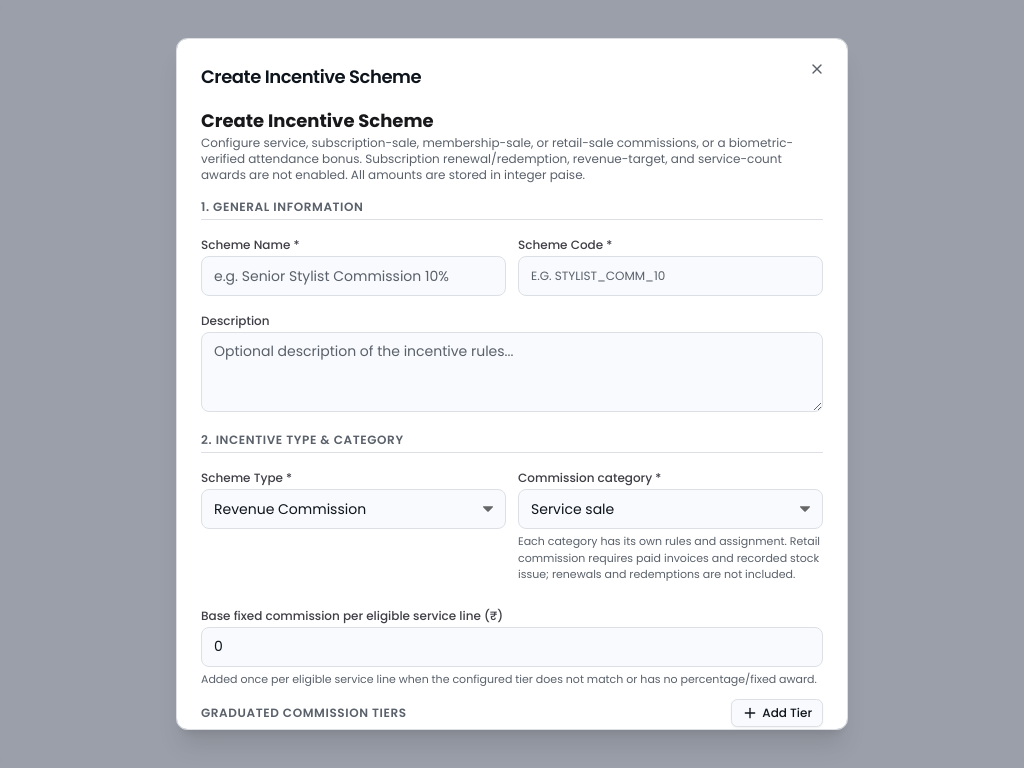
Incentive capability UI › rejects a finite tier maximum below its minimum before submitting
The image size is (1024, 768).
Type "Invalid tier" into the field with placeholder "e.g. Senior Stylist Commission 10%" at (354, 276), box [201,256,506,296]
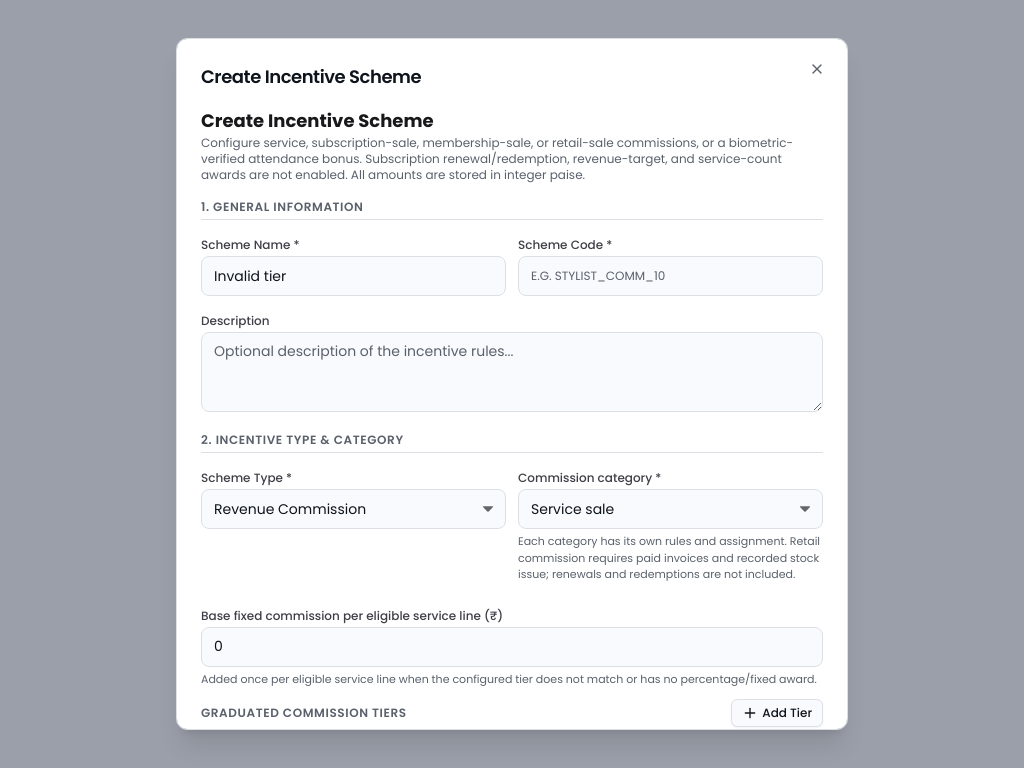
Type "INVALID_TIER" into the field with placeholder "e.g. STYLIST_COMM_10" at (670, 276), box [518,256,823,296]
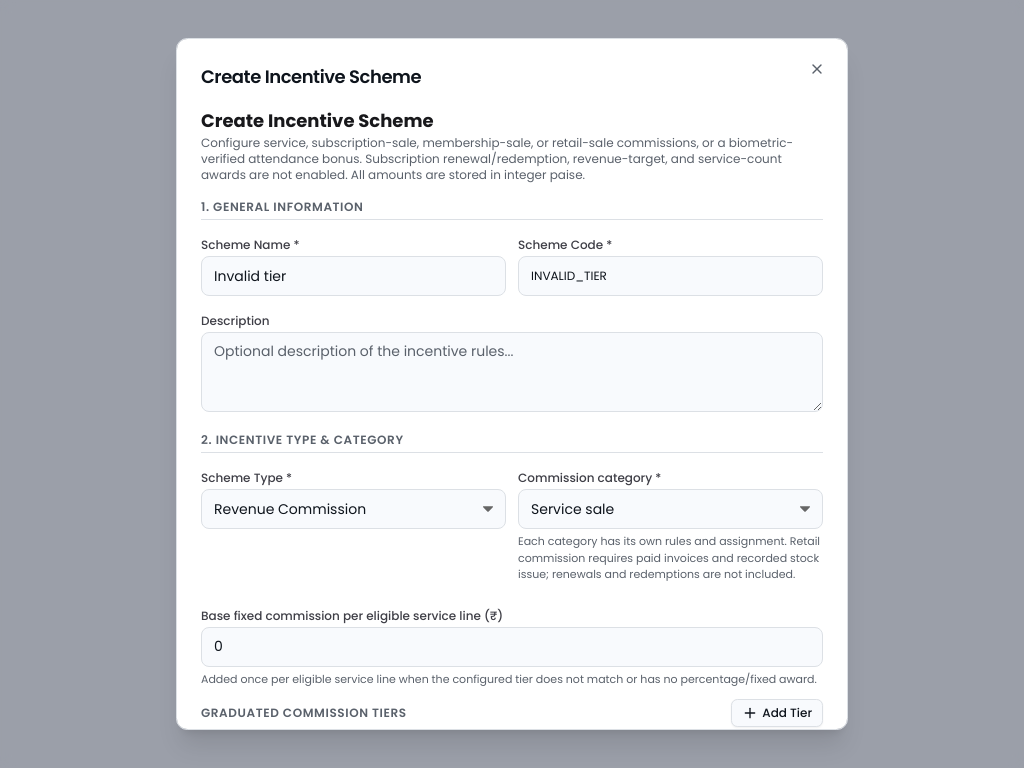
Click the button "Add Tier" at (777, 713), box [731,699,823,727]
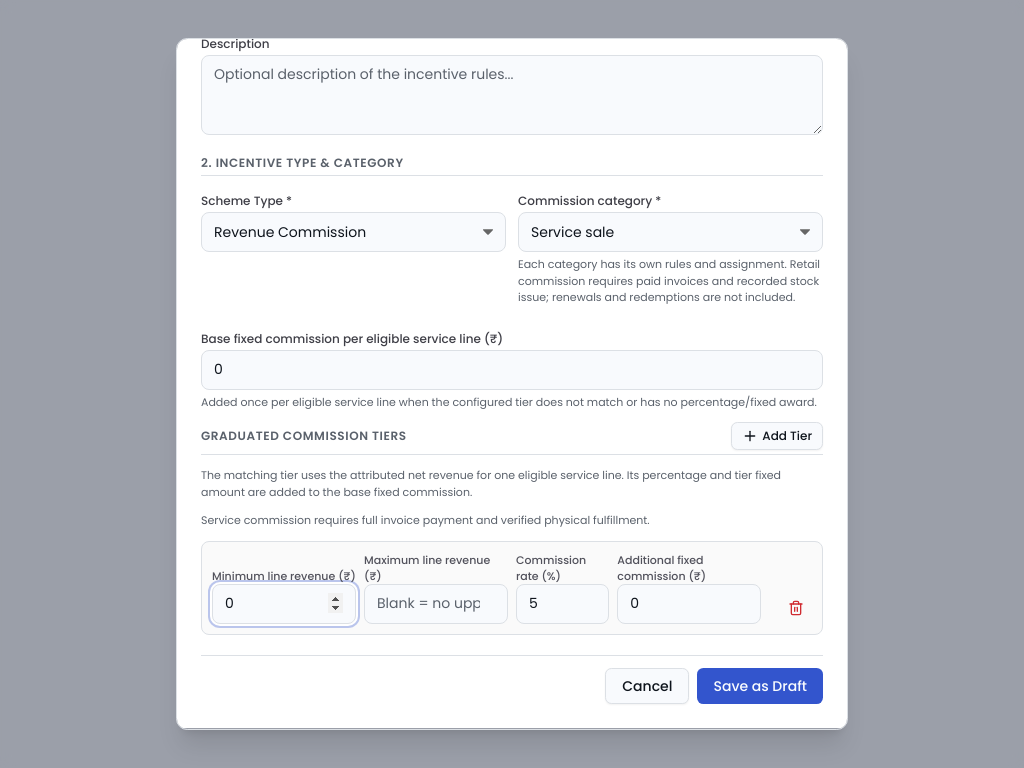
Replace the text in the number field labelled "Minimum line revenue (₹)" with "500" at (284, 604), box [212,584,356,624]
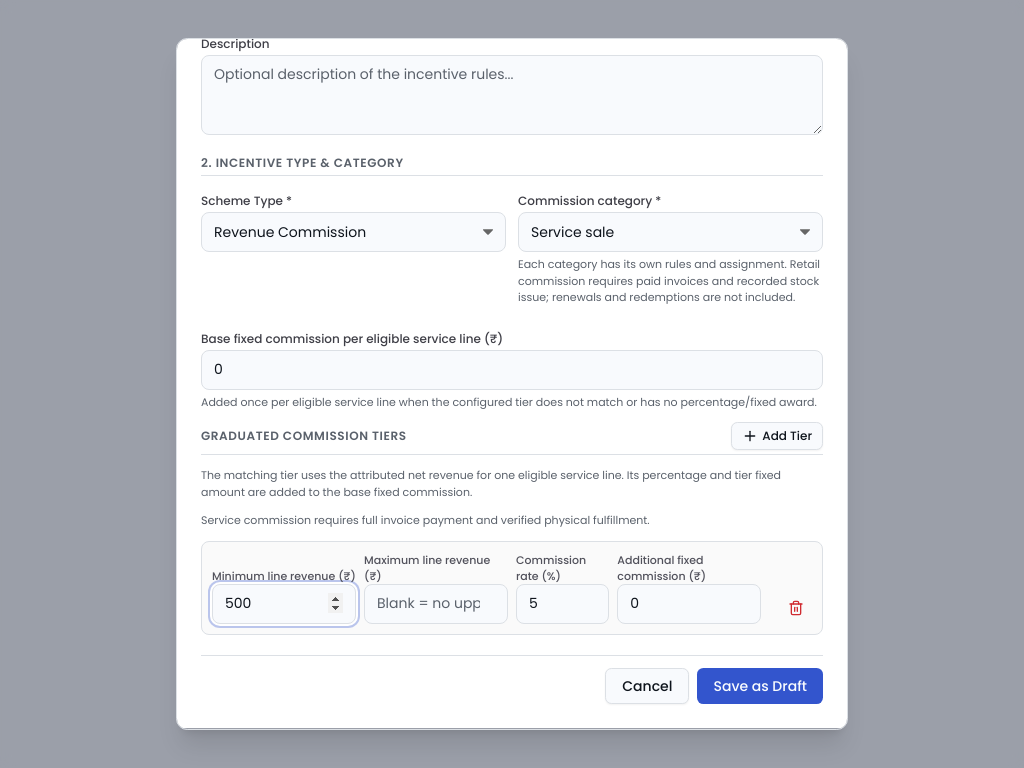
Type "250" into the number field labelled "Maximum line revenue (₹)" at (436, 604), box [364,584,508,624]
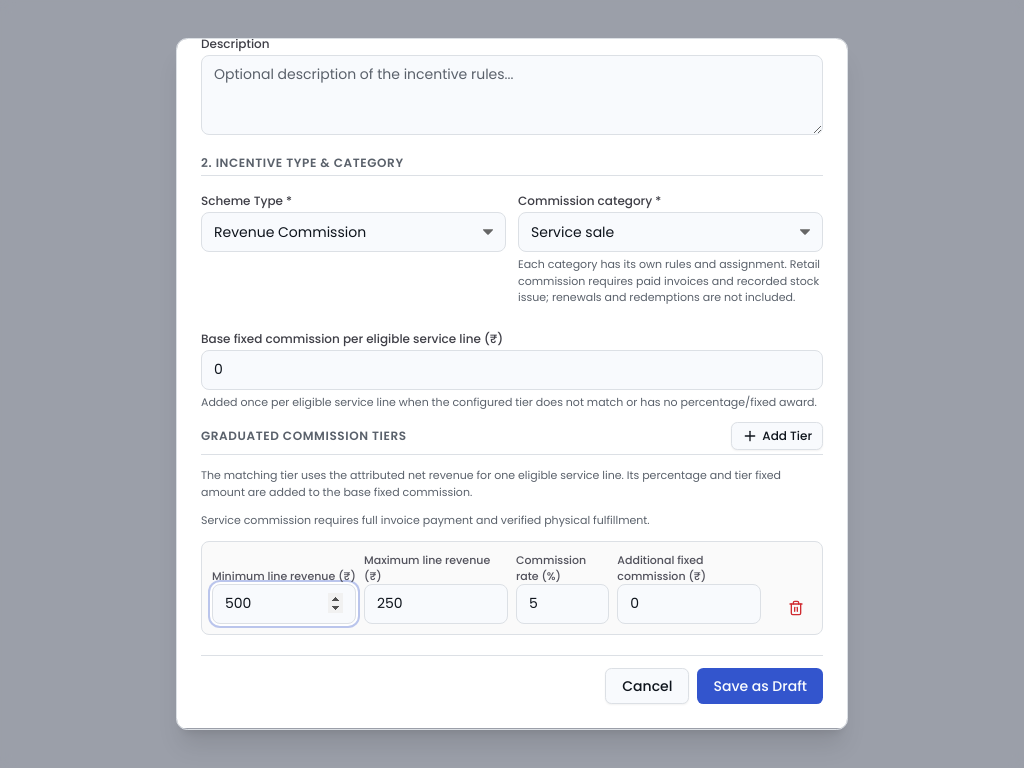
Click the button "Save as Draft" at (760, 686), box [697,668,823,704]
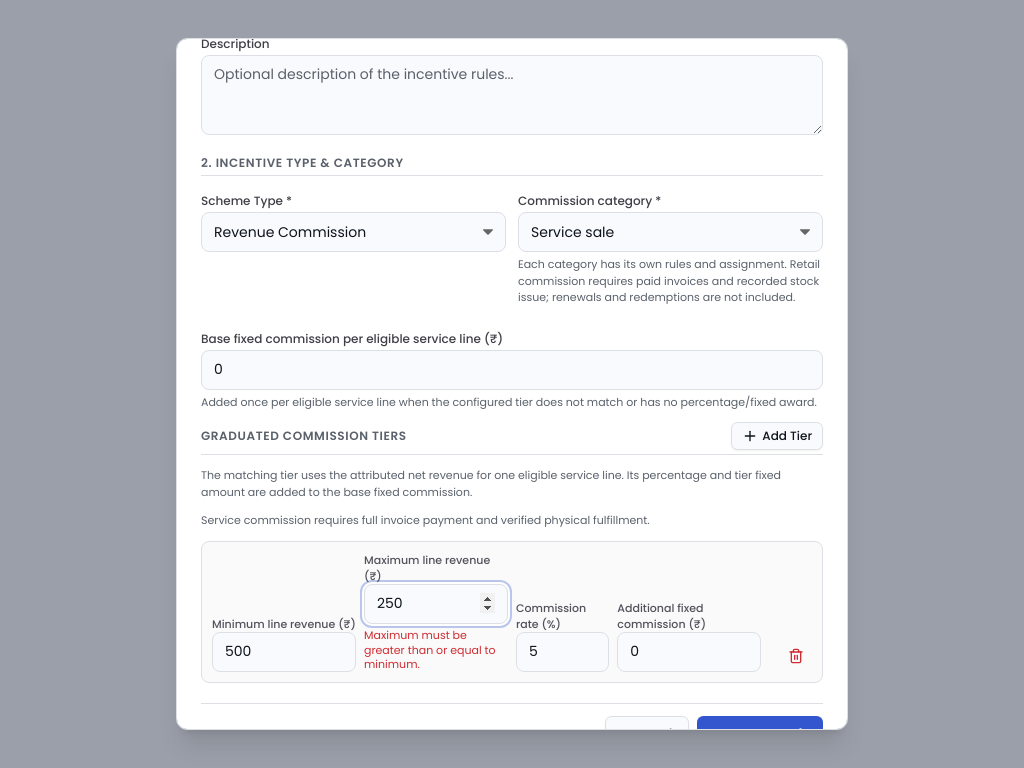
Expected: the text "Maximum must be greater than or equal to minimum." is shown, [364,628,508,672]
